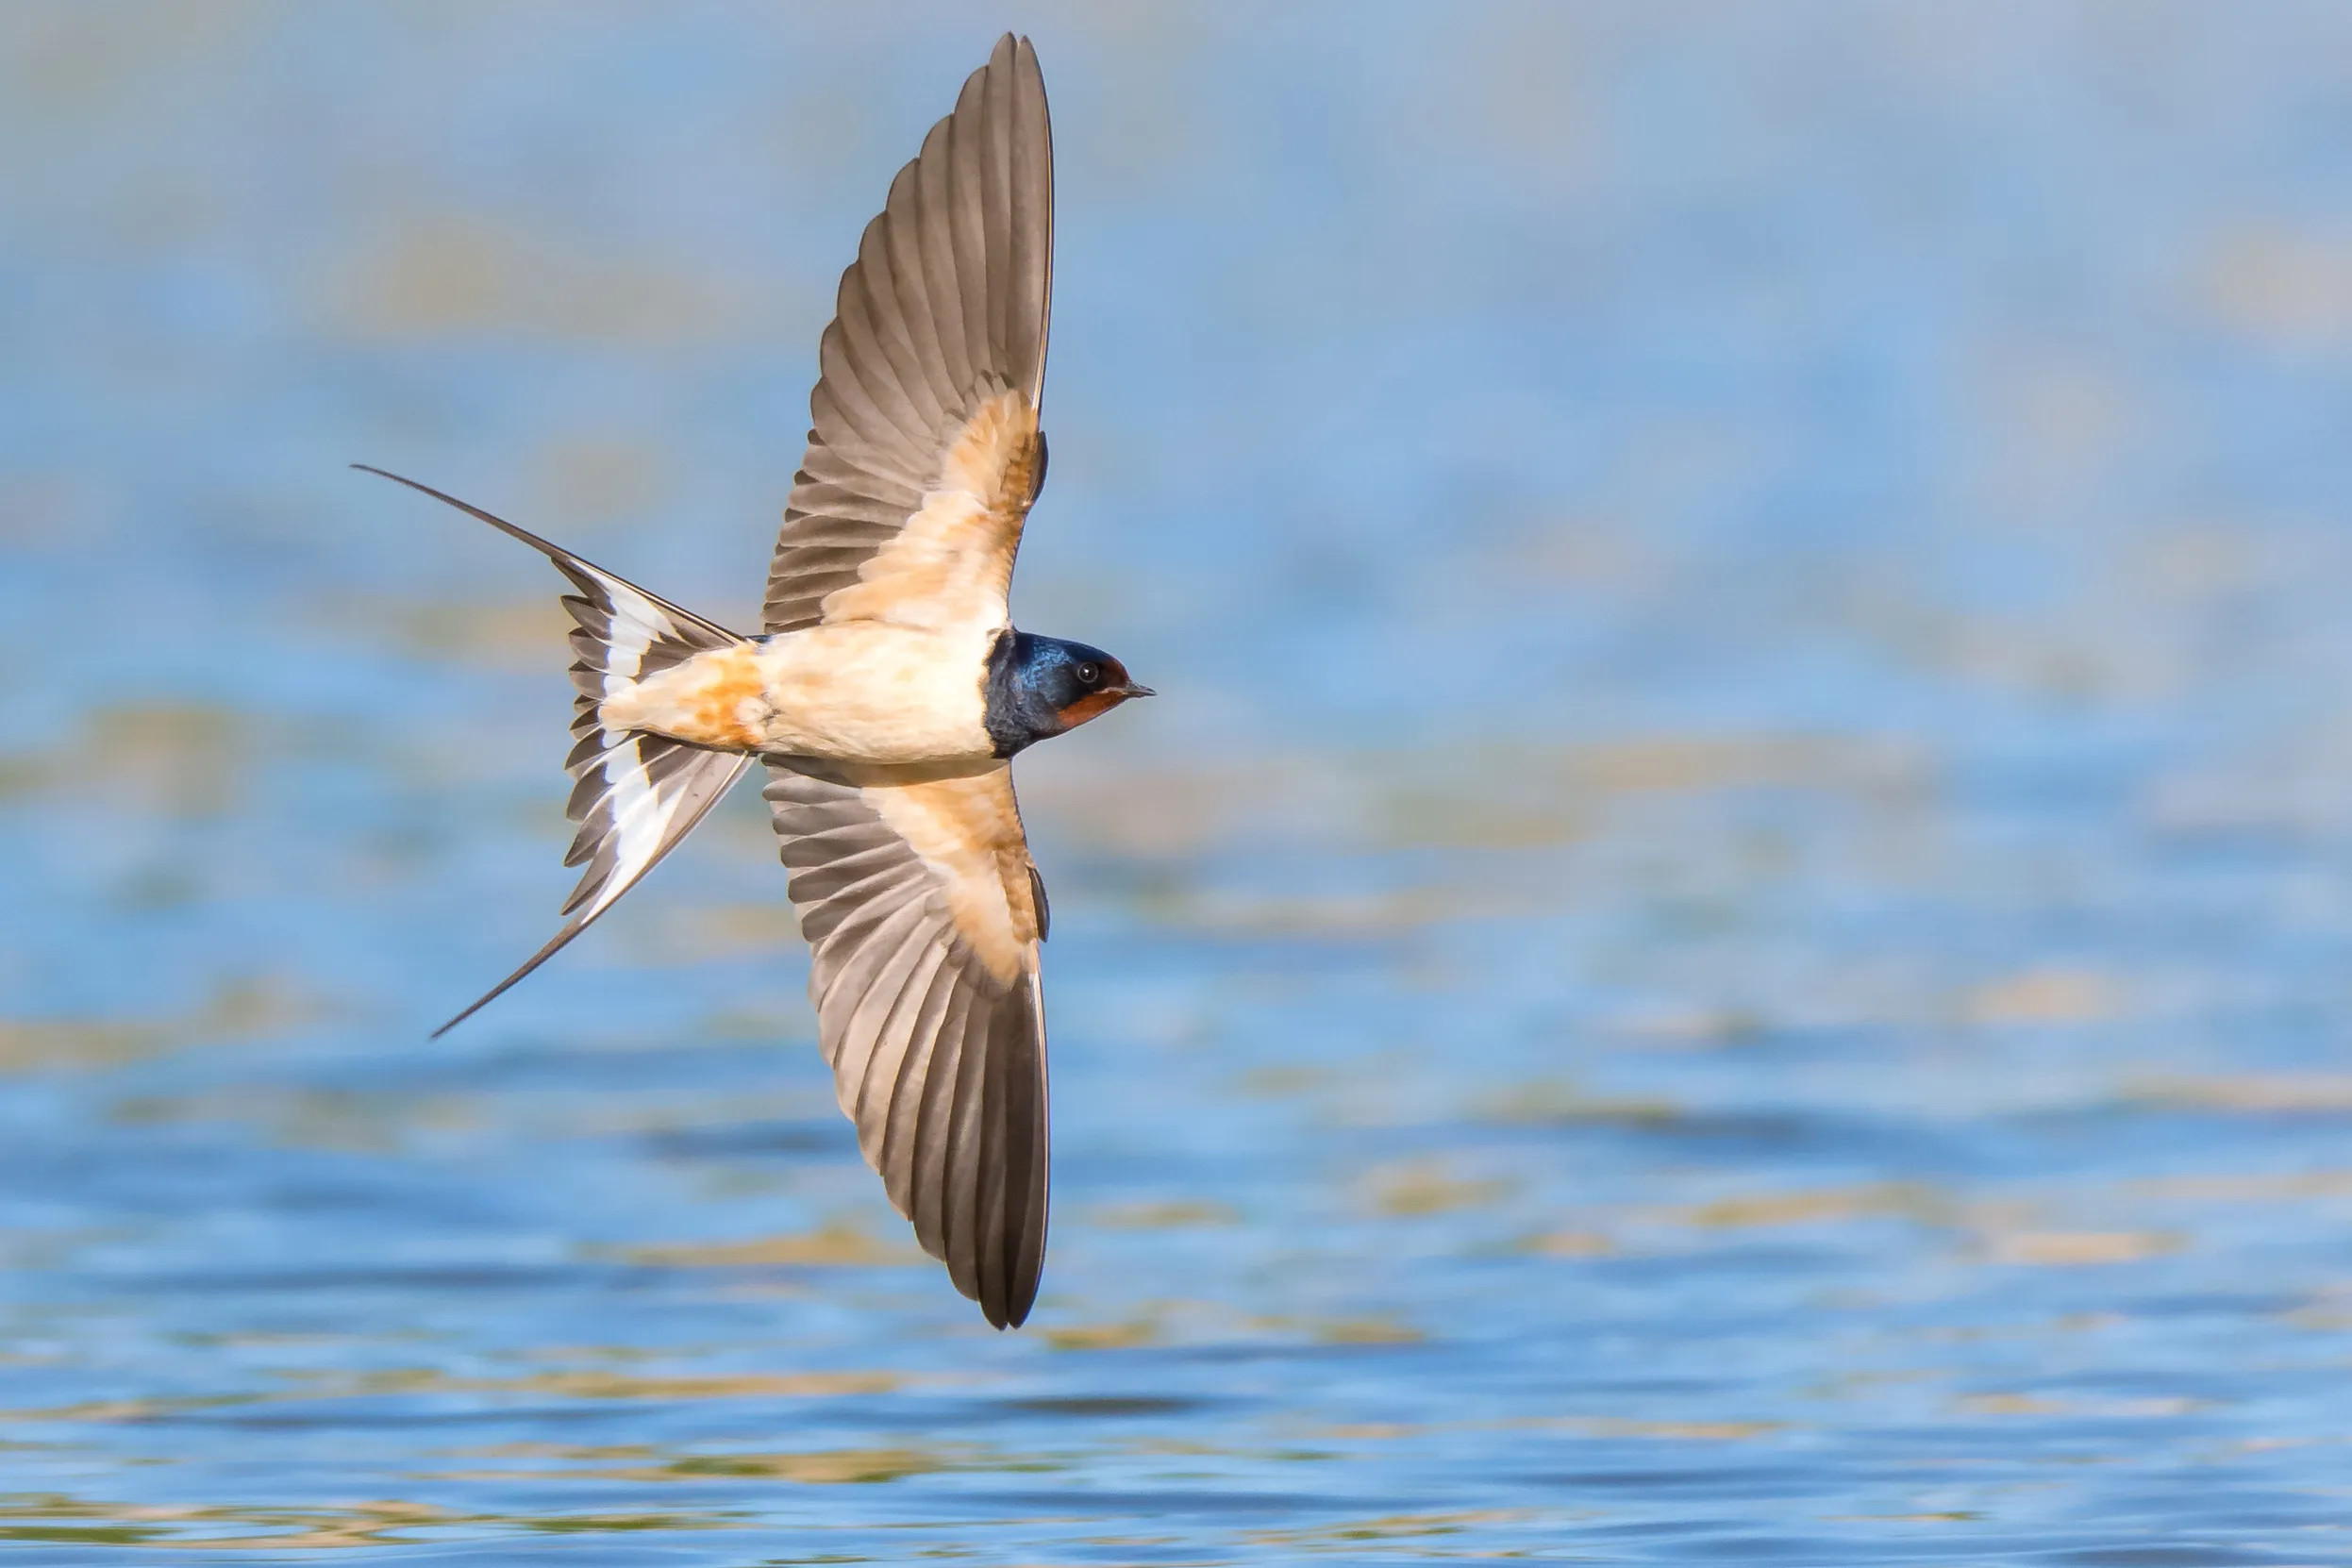bird: (345, 23, 1164, 1333)
